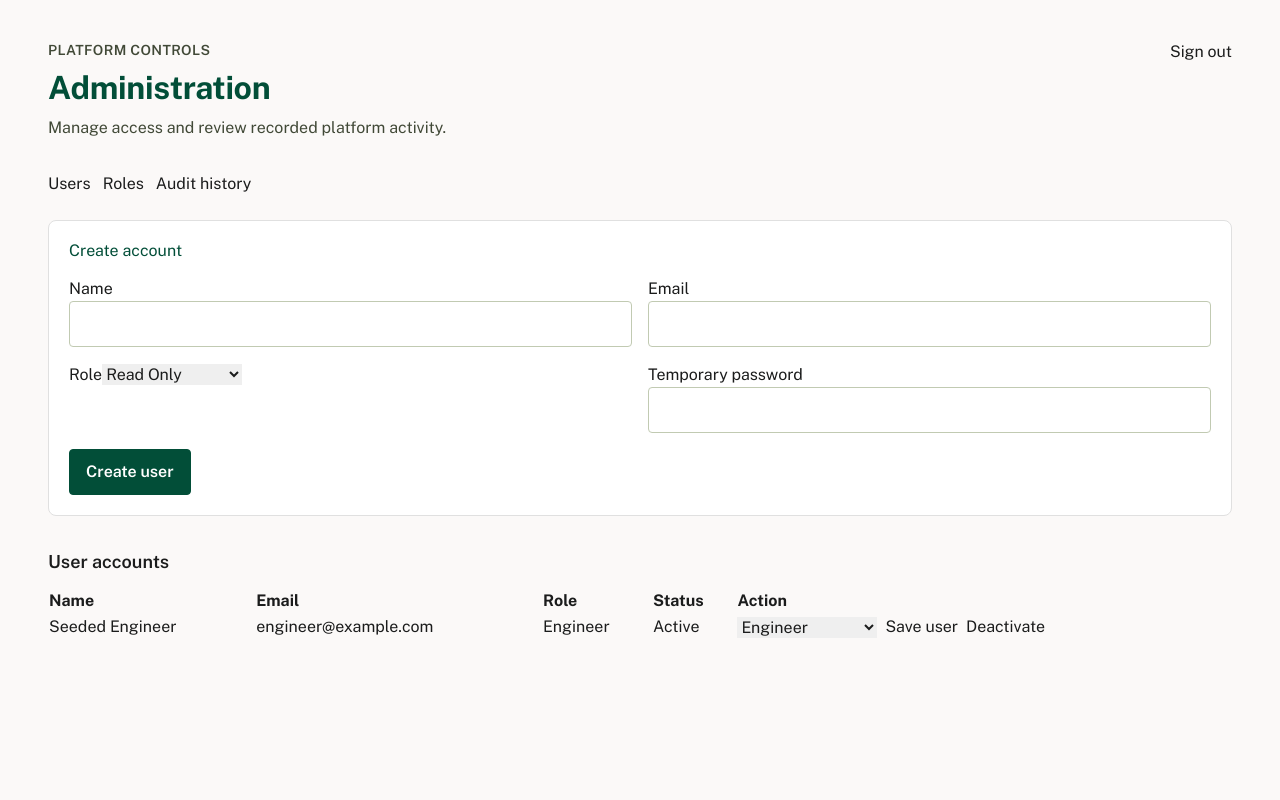
AdministrationPage › shows permission controls and audit events for admin tabs
Click the tab "Roles" at (123, 184), box x1=103 y1=172 x2=144 y2=196
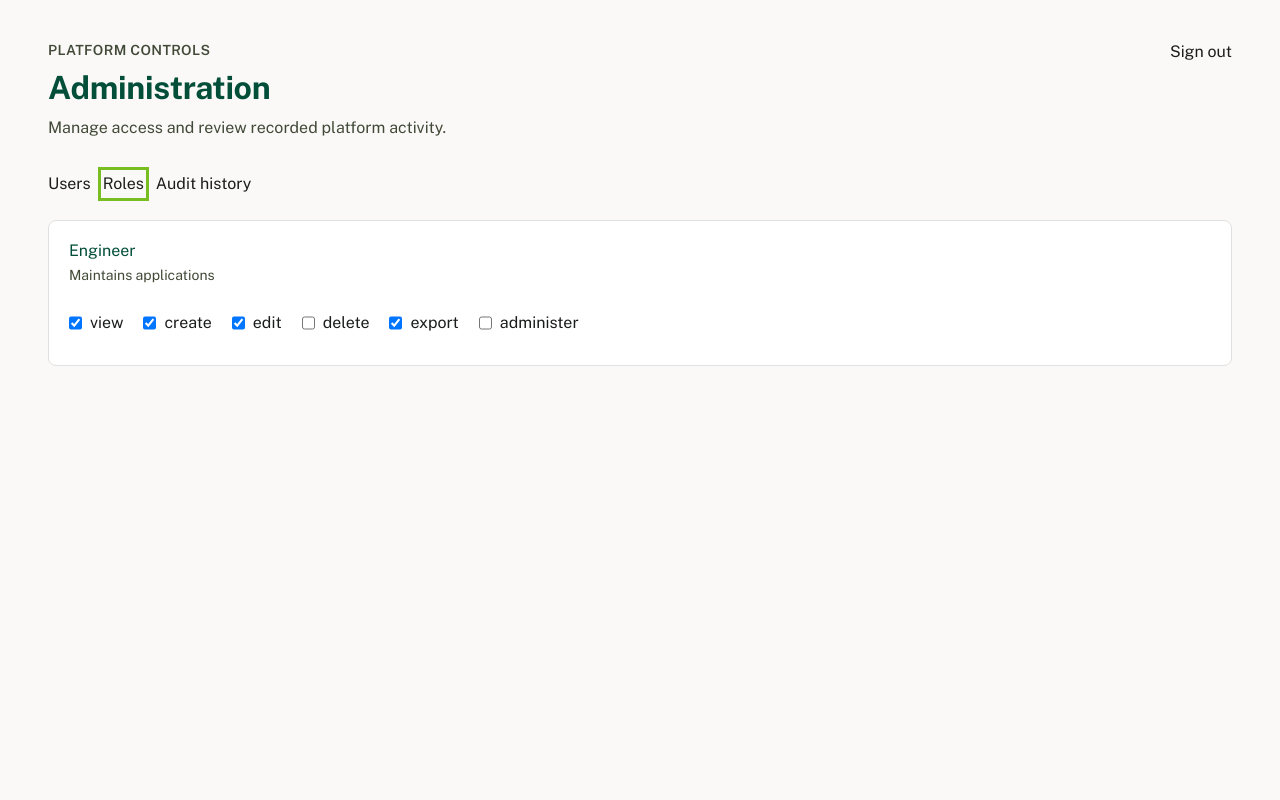
Expected: the heading "Engineer" is shown, x1=69 y1=241 x2=136 y2=260
Expected: the checkbox named "Engineer edit" is checked, x1=232 y1=301 x2=245 y2=345
Click the tab "Audit history" at (204, 184), box x1=156 y1=172 x2=251 y2=196
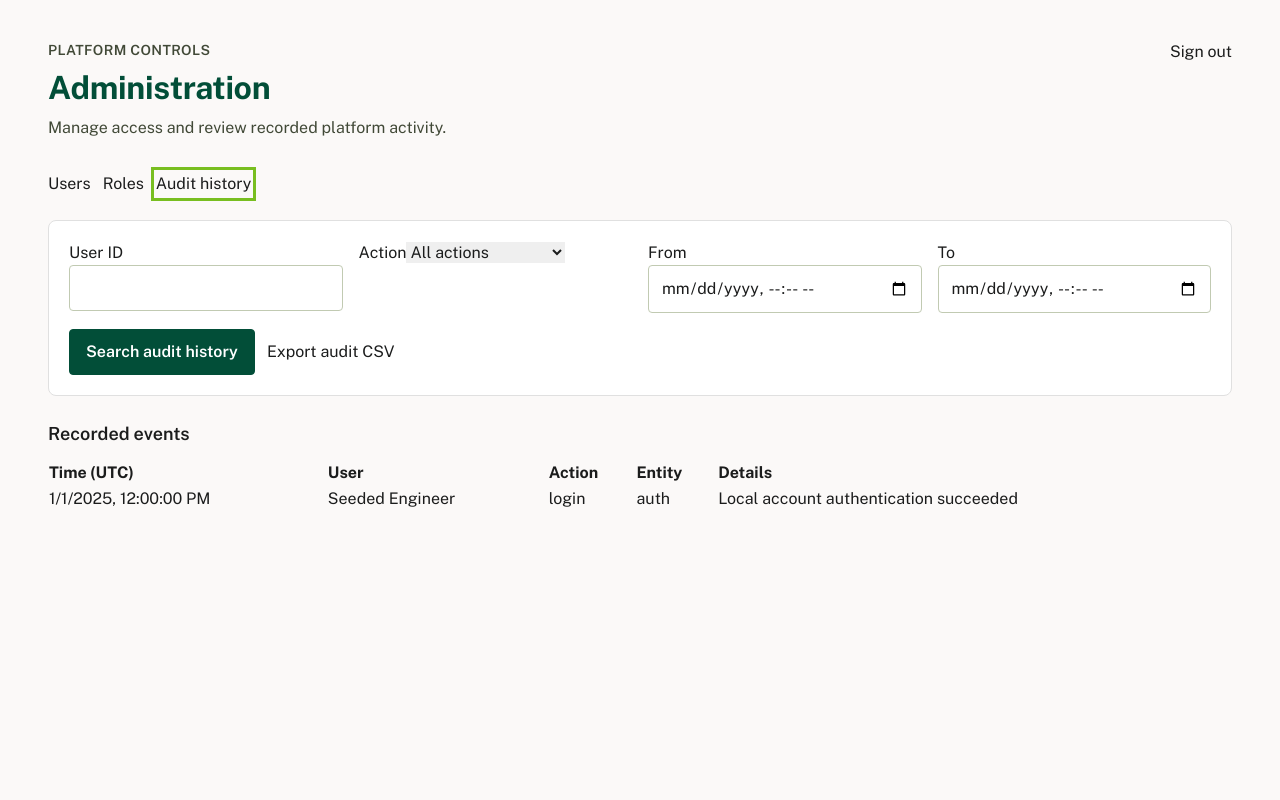
Expected: the text "Local account authentication succeeded" is shown, x1=717 y1=486 x2=1232 y2=512
Expected: the button "Search audit history" is shown, x1=69 y1=329 x2=255 y2=375
Expected: the button "Export audit CSV" is shown, x1=267 y1=329 x2=394 y2=375
